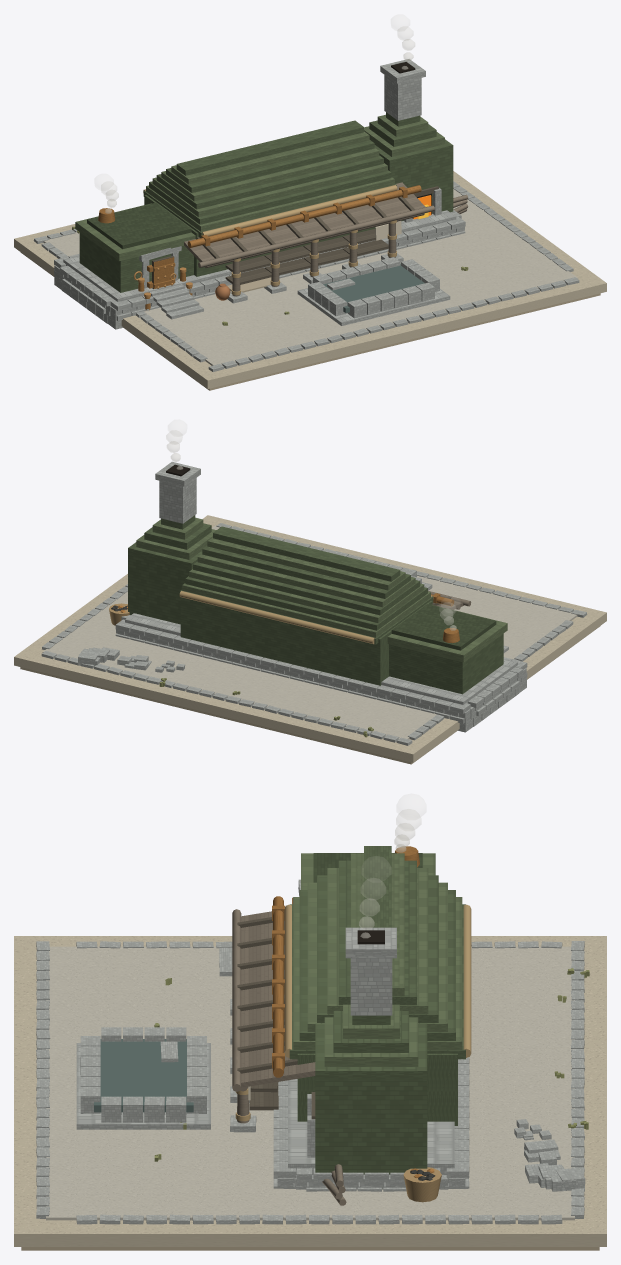
File: civic-bronze-age-bathhouse-built.glb
3 views of the same model, one above another, from view 1: azimuth 30°, elevation 25°; view 2: azimuth 150°, elevation 25°; view 3: azimuth 270°, elevation 25° (orthographic). The views are drawn at different scales.
Size of the model in its own units: 44.96 by 22.73 by 37.
Materials: 50 (33 with a texture image).
